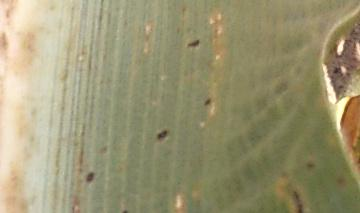tarspot: (292, 191, 303, 213), (156, 128, 168, 141), (85, 171, 95, 184), (186, 39, 200, 48), (305, 160, 316, 169), (335, 176, 345, 185), (203, 97, 211, 106), (121, 209, 129, 213)
